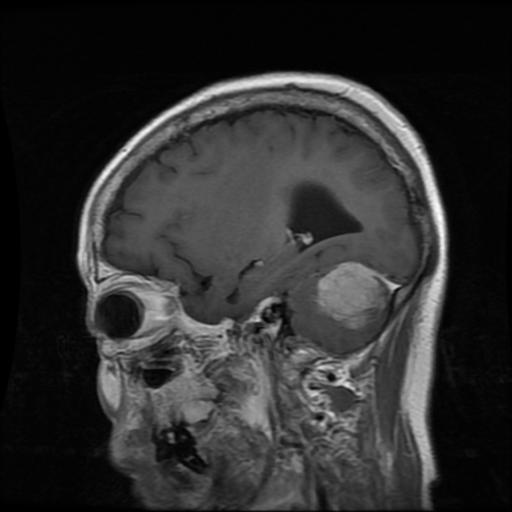Menigiomia_tumour: (316, 260, 391, 326)
